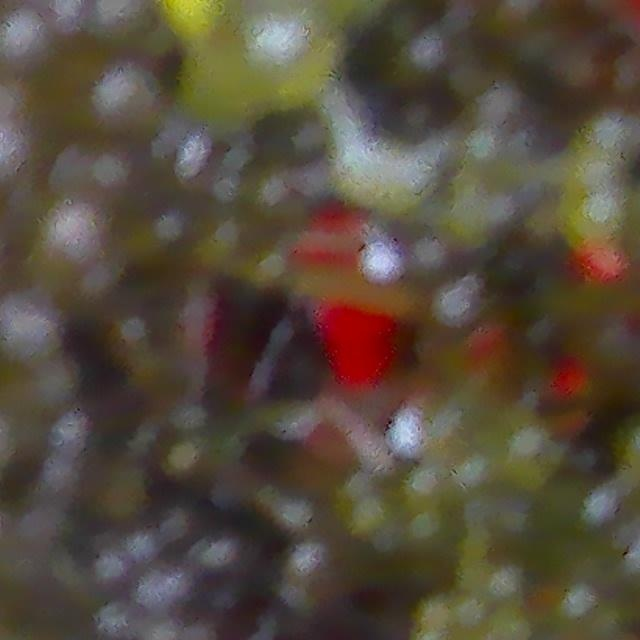SeaGrape: (104, 55, 155, 131), (57, 193, 101, 271), (287, 549, 345, 607), (8, 302, 69, 356), (135, 569, 196, 619), (196, 537, 249, 594), (0, 13, 55, 64), (111, 527, 165, 572), (79, 556, 134, 598), (93, 595, 134, 640)
